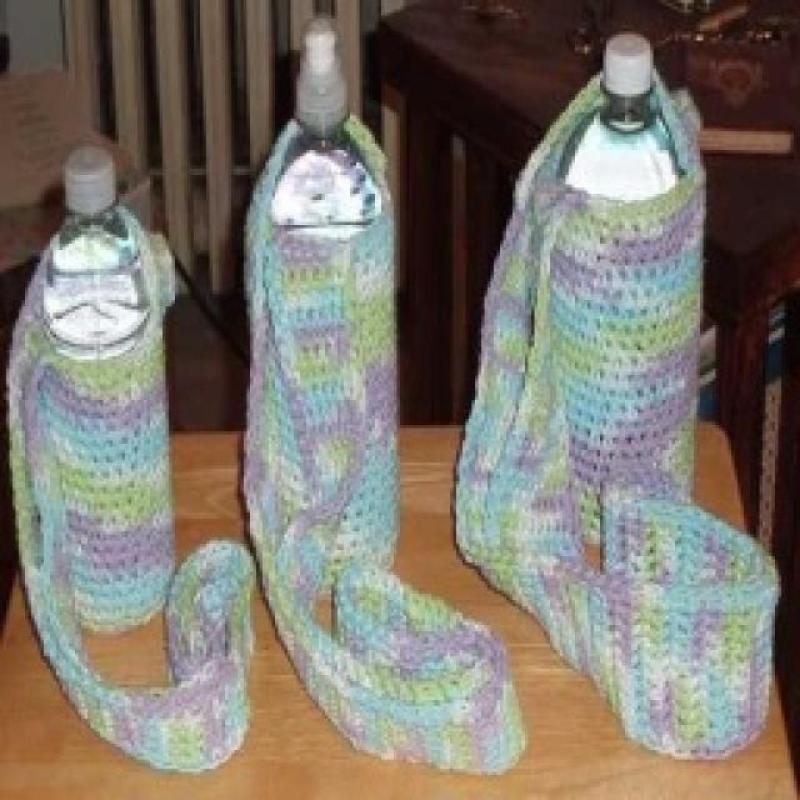botella: (262, 25, 390, 235), (33, 147, 152, 363), (553, 35, 691, 200)
